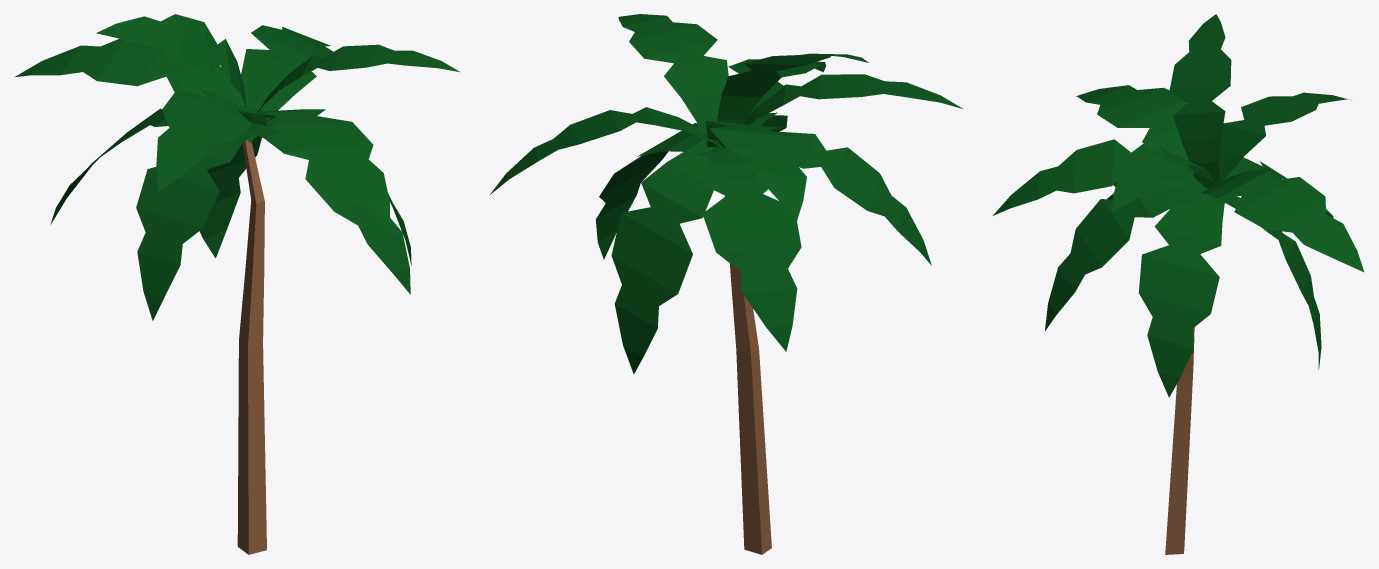
The model's file is tree-summer-complete-49-009.glb.
3 views of the same model, side by side, from view 1: azimuth 30°, elevation 25°; view 2: azimuth 150°, elevation 25°; view 3: azimuth 270°, elevation 25° (orthographic). The views are drawn at different scales.
Parts seen in each view (by area): view 1: Tree 49_67; view 2: Tree 49_67; view 3: Tree 49_67.
Boxes of the visible parts, x1,y1,x2,y2 form: Tree 49_67: (14,14,460,554); Tree 49_67: (490,14,962,554); Tree 49_67: (993,14,1364,554).
Bounding box in the file's own units: 1.43 × 2.27 × 1.59.
